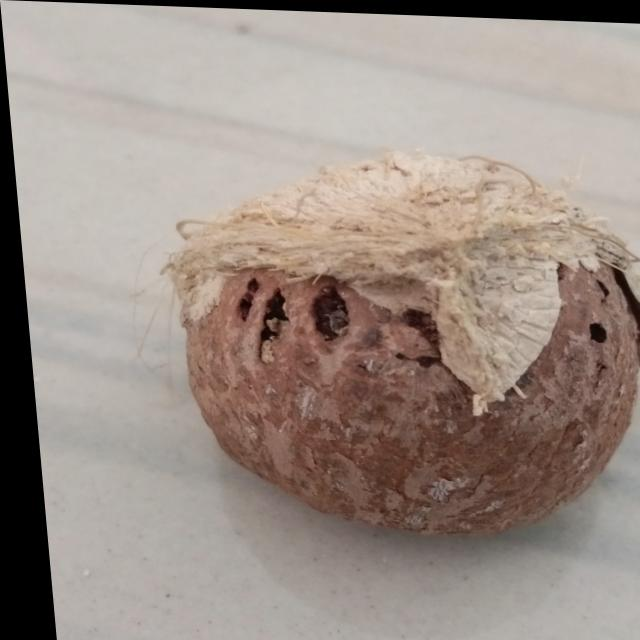phatora: (127, 143, 640, 548)
